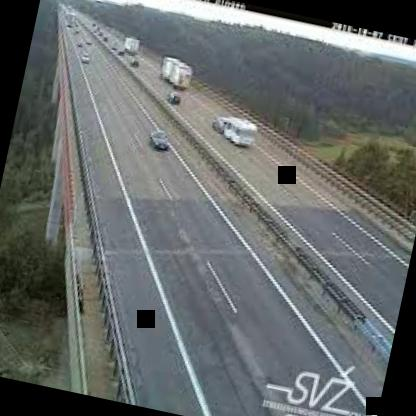car: (205, 108, 264, 153), (153, 50, 198, 94), (143, 124, 174, 160), (163, 91, 185, 109), (80, 50, 92, 68)
